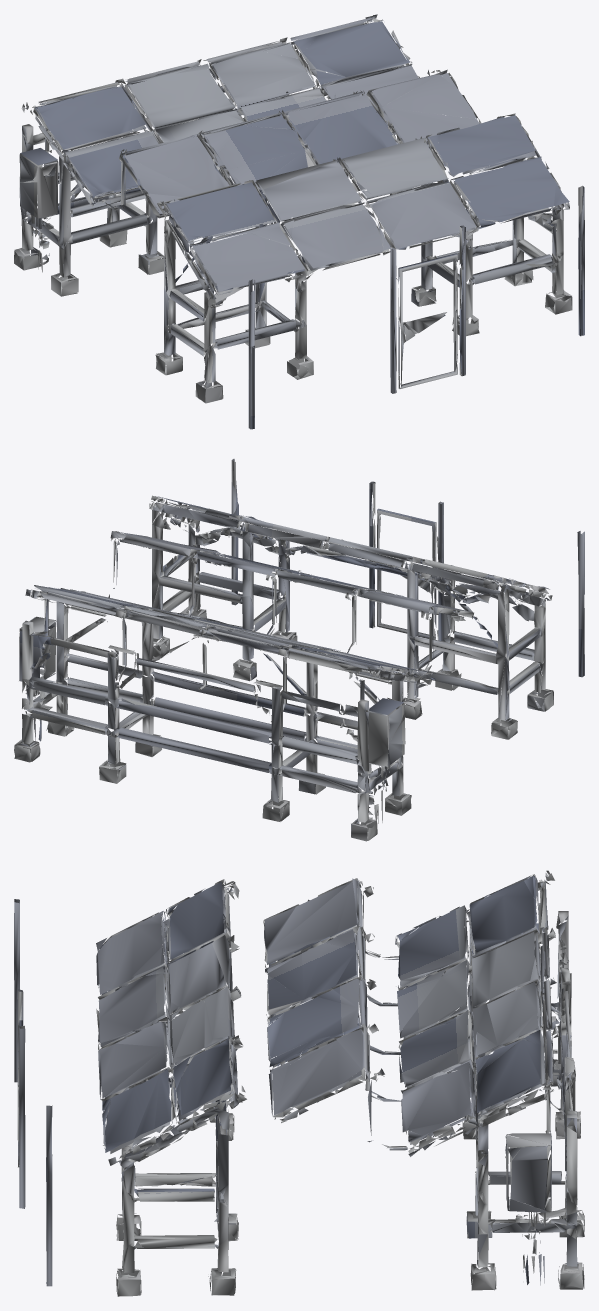
File: solar.glb
3 views of the same model, one above another, from view 1: azimuth 30°, elevation 25°; view 2: azimuth 150°, elevation 25°; view 3: azimuth 270°, elevation 25° (orthographic). The views are drawn at different scales.
Visible parts, largest first — view 1: LO.001; view 2: LO.001; view 3: LO.001.
Part boxes in pixels (x1=…): LO.001: x1=14, y1=14, x2=584, y2=429; LO.001: x1=14, y1=459, x2=584, y2=841; LO.001: x1=14, y1=870, x2=584, y2=1296.
Bounding box in the file's own units: 1.79 × 0.7812 × 1.92.
Materials: 1 (1 with a texture image).
